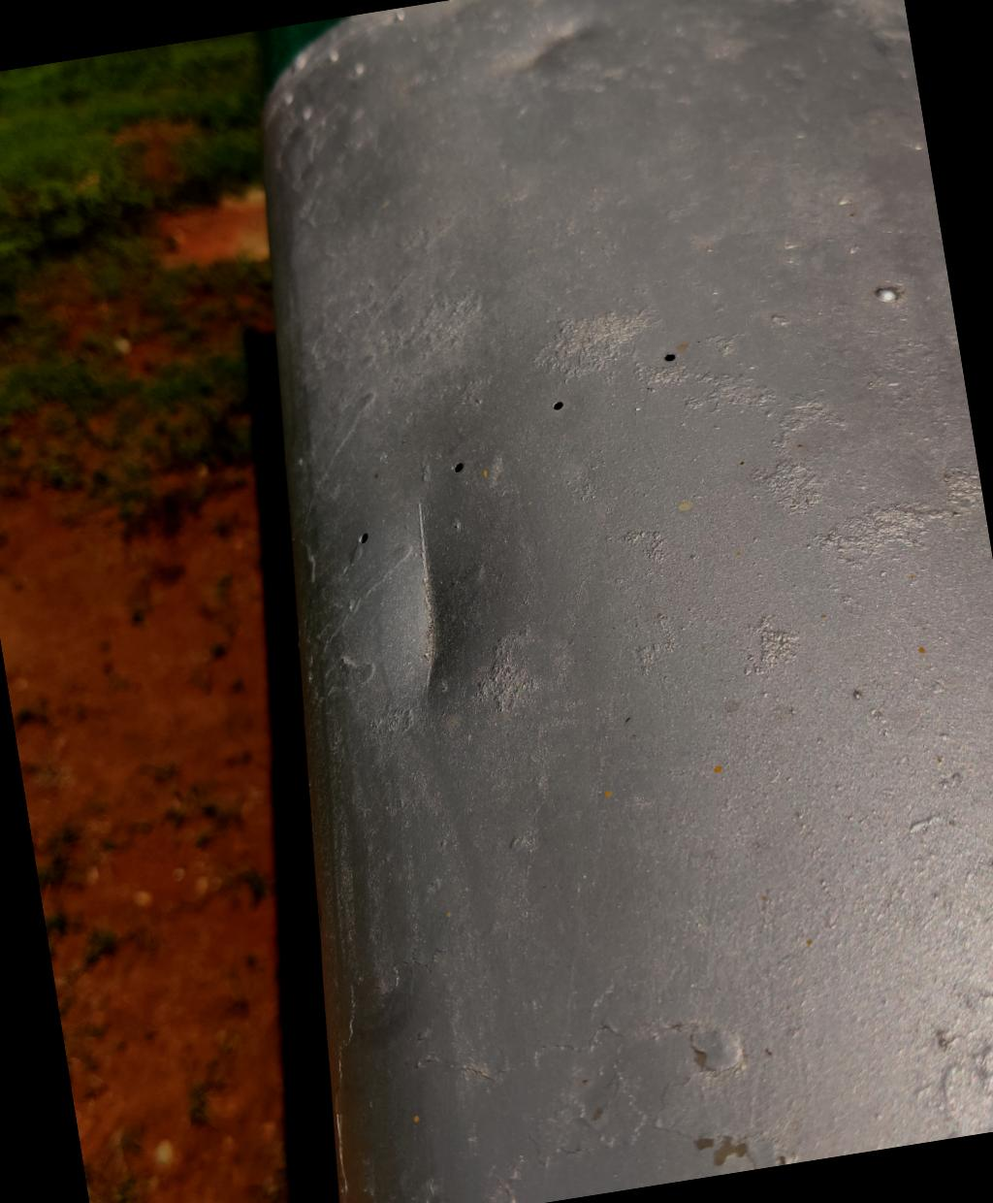dent: (308, 439, 544, 758), (461, 0, 651, 145)
